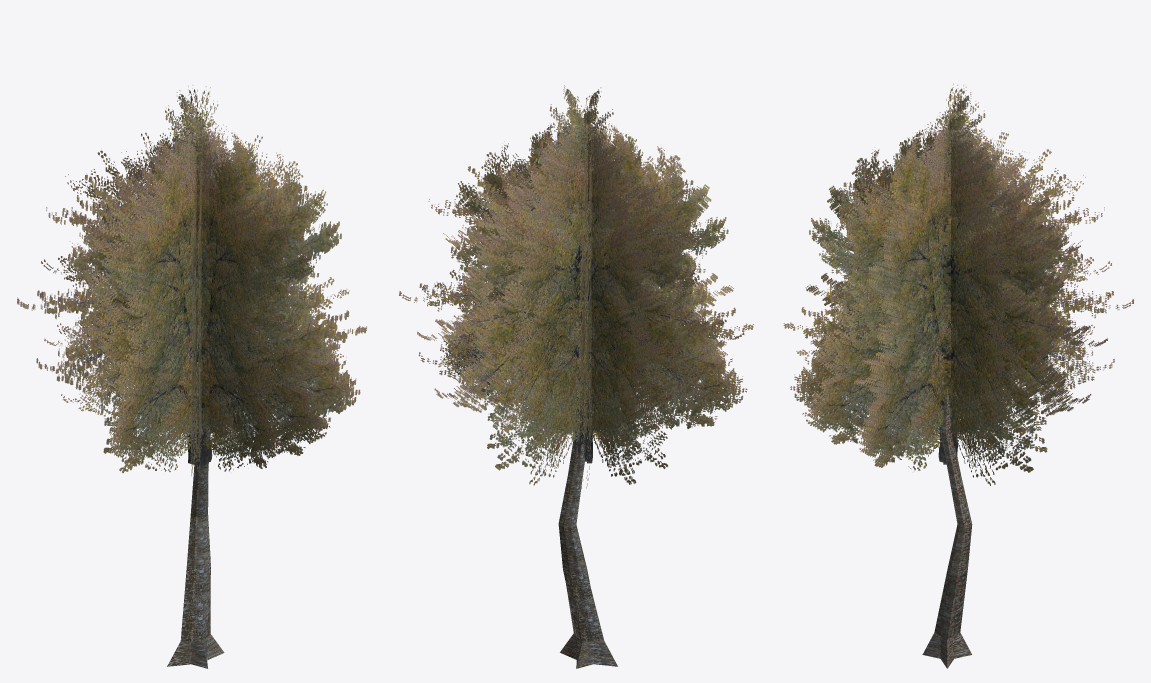
Rendered from tree3.fbx.
3 renders of one model, left to right at view 1: azimuth 30°, elevation 25°; view 2: azimuth 150°, elevation 25°; view 3: azimuth 270°, elevation 25°, orthographic.
Parts seen in each view (by area): view 1: tree3.002; view 2: tree3.002; view 3: tree3.002.
Part boxes in pixels (bbox=[...]): tree3.002: bbox=[17, 85, 366, 668]; tree3.002: bbox=[399, 85, 753, 668]; tree3.002: bbox=[783, 83, 1133, 668].
Bounding box in the file's own units: 24.98 × 44.06 × 24.98.
Materials: 2 (2 with a texture image).
